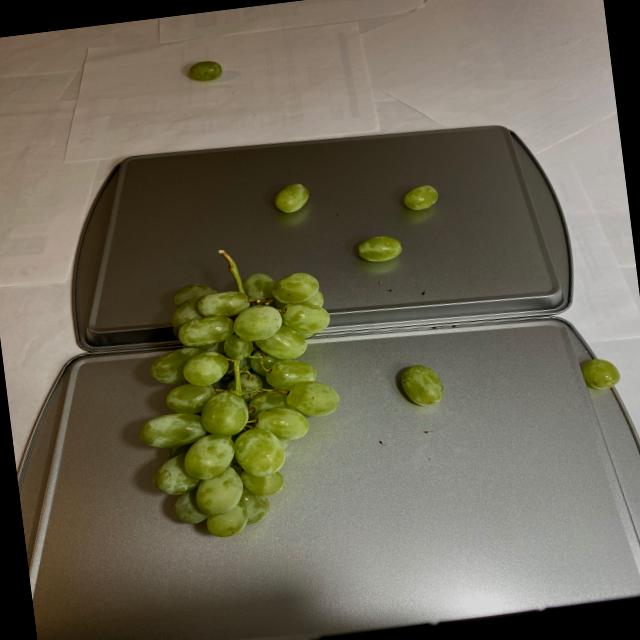grapes: (114, 224, 444, 548), (397, 176, 445, 215), (270, 181, 315, 219), (580, 354, 622, 393), (180, 58, 222, 84)
